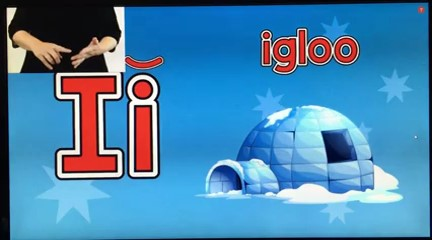I: (28, 32, 108, 71)
